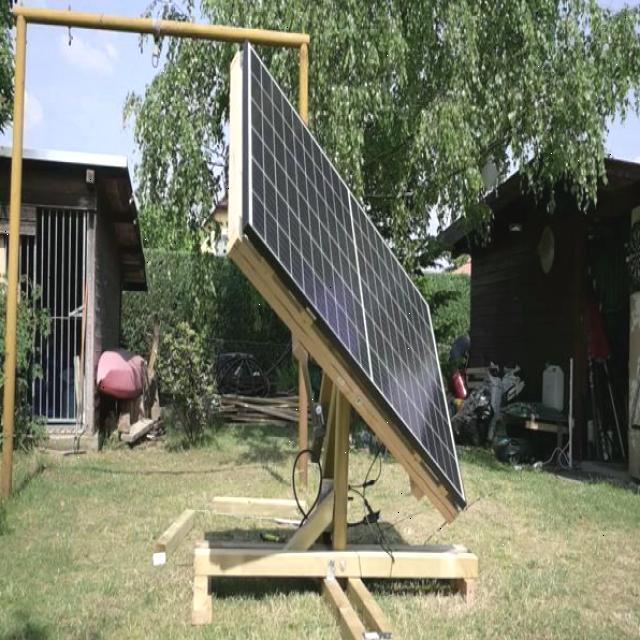Normal Solar Panel: (246, 51, 462, 500)
